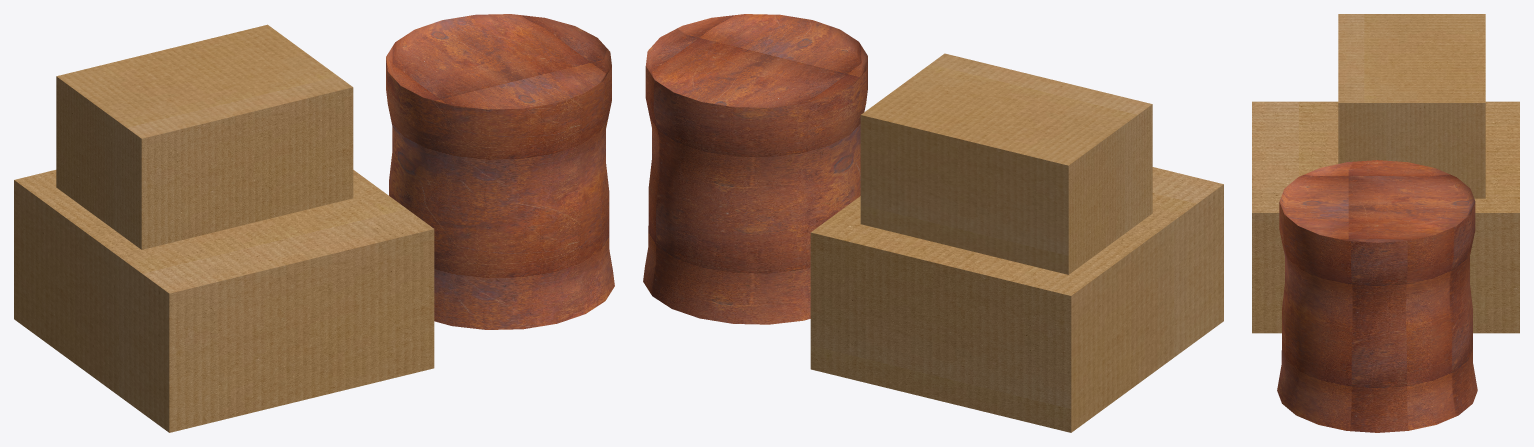
File: Caixa e Barril.fbx
The picture shows the model from 3 angles, left to right: view 1: azimuth 30°, elevation 25°; view 2: azimuth 150°, elevation 25°; view 3: azimuth 270°, elevation 25°; orthographic projection. The views are drawn at different scales.
Parts seen in each view (by area): view 1: barril_e_2_caixas1:pCube1, barril_e_2_caixas1:pCylinder1, barril_e_2_caixas1:pasted__pCube1group; view 2: barril_e_2_caixas1:pCube1, barril_e_2_caixas1:pCylinder1, barril_e_2_caixas1:pasted__pCube1group; view 3: barril_e_2_caixas1:pCylinder1, barril_e_2_caixas1:pasted__pCube1group, barril_e_2_caixas1:pCube1.
Boxes of the visible parts, x1,y1,x2,y2 form: barril_e_2_caixas1:pCube1: (14, 170, 434, 432); barril_e_2_caixas1:pCylinder1: (386, 14, 614, 329); barril_e_2_caixas1:pasted__pCube1group: (56, 24, 353, 249); barril_e_2_caixas1:pCube1: (810, 167, 1223, 432); barril_e_2_caixas1:pCylinder1: (643, 14, 867, 324); barril_e_2_caixas1:pasted__pCube1group: (860, 53, 1152, 274); barril_e_2_caixas1:pCylinder1: (1277, 160, 1477, 432); barril_e_2_caixas1:pasted__pCube1group: (1338, 14, 1485, 198); barril_e_2_caixas1:pCube1: (1252, 101, 1519, 333).
Bounding box in the file's own units: 9.02 × 4.33 × 4.82.
2 materials, 2 textured.
